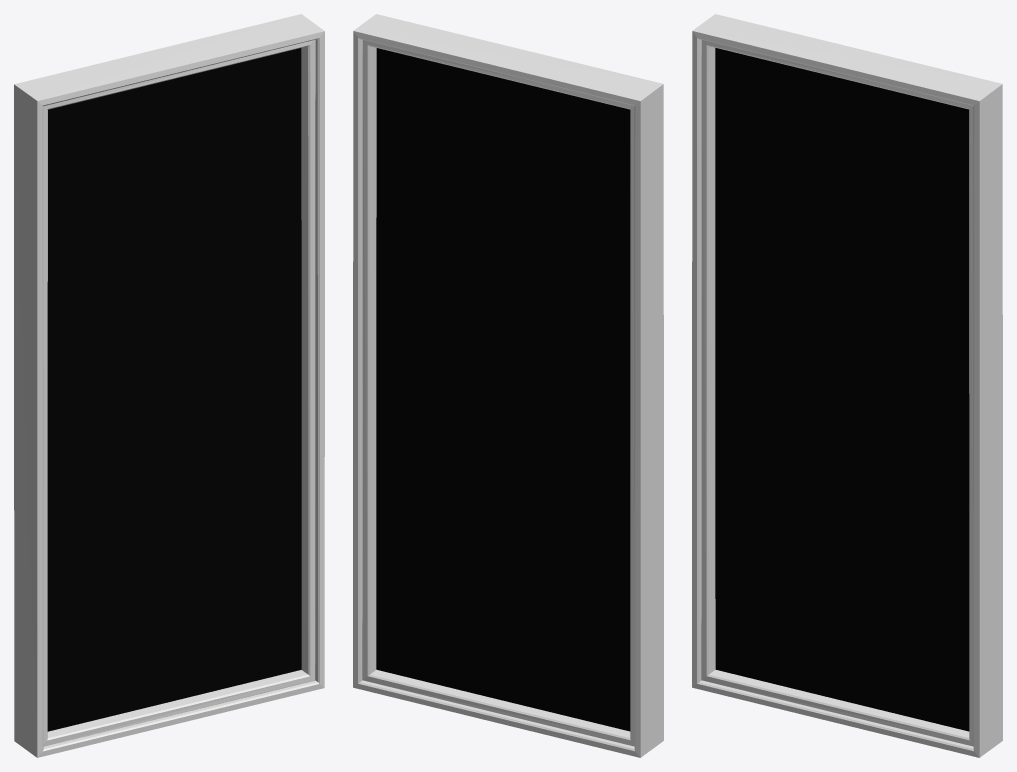
Rendered from WindowFactory73448.spawn_asset5.glb.
The picture shows the model from 3 angles, left to right: view 1: azimuth 30°, elevation 25°; view 2: azimuth 150°, elevation 25°; view 3: azimuth 330°, elevation 25°; orthographic projection.
Parts seen in each view (by area): view 1: WindowFactory(73448).spawn_asset(5).001; view 2: WindowFactory(73448).spawn_asset(5).001; view 3: WindowFactory(73448).spawn_asset(5).001.
Boxes of the visible parts, bbox=[...] form: WindowFactory(73448).spawn_asset(5).001: bbox=[14, 14, 324, 757]; WindowFactory(73448).spawn_asset(5).001: bbox=[353, 14, 663, 757]; WindowFactory(73448).spawn_asset(5).001: bbox=[692, 14, 1002, 757].
Bounding box in the file's own units: 0.6351 × 1.39 × 0.0905.
Materials: 1 (1 with a texture image).
